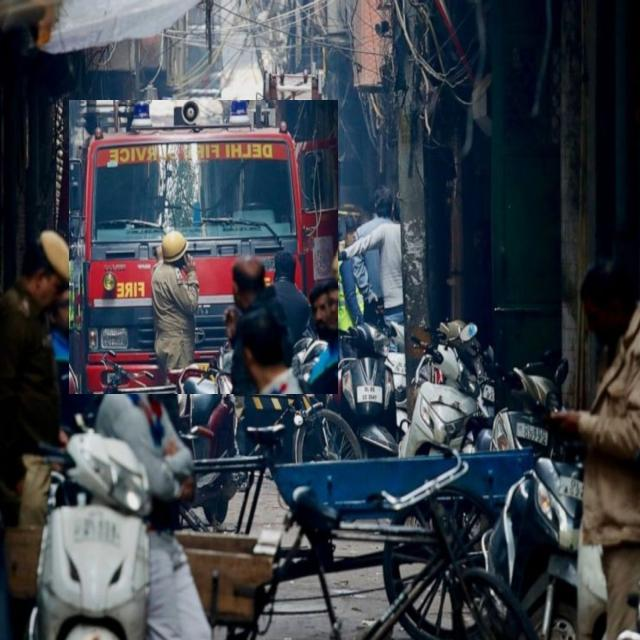emergency: (70, 100, 338, 394)
motorcycle: (328, 323, 398, 457)
